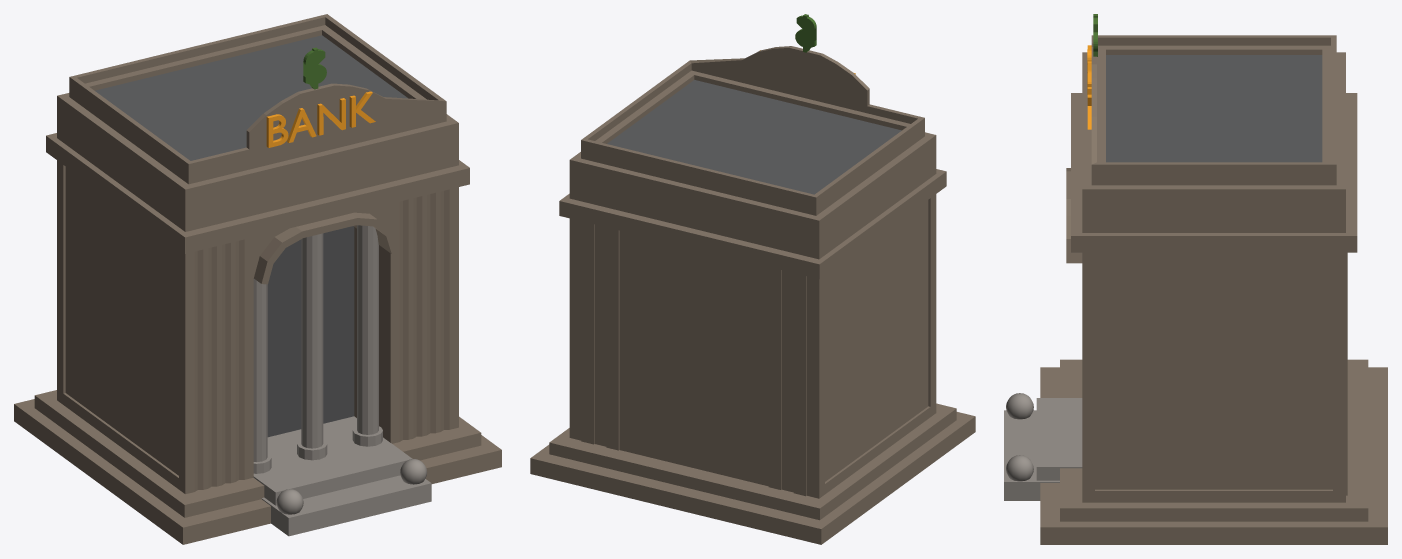
File: Bank_1.fbx
3 renders of one model, left to right at view 1: azimuth 30°, elevation 25°; view 2: azimuth 150°, elevation 25°; view 3: azimuth 270°, elevation 25°, orthographic. The views are drawn at different scales.
Visible parts, largest first — view 1: Bank_1; view 2: Bank_1; view 3: Bank_1.
Part boxes in pixels (left/top/right/bottom): Bank_1: left=14, top=14, right=501, bottom=544; Bank_1: left=530, top=14, right=975, bottom=544; Bank_1: left=1004, top=14, right=1387, bottom=544.
Bounding box in the file's own units: 1148 × 1506 × 1164.
